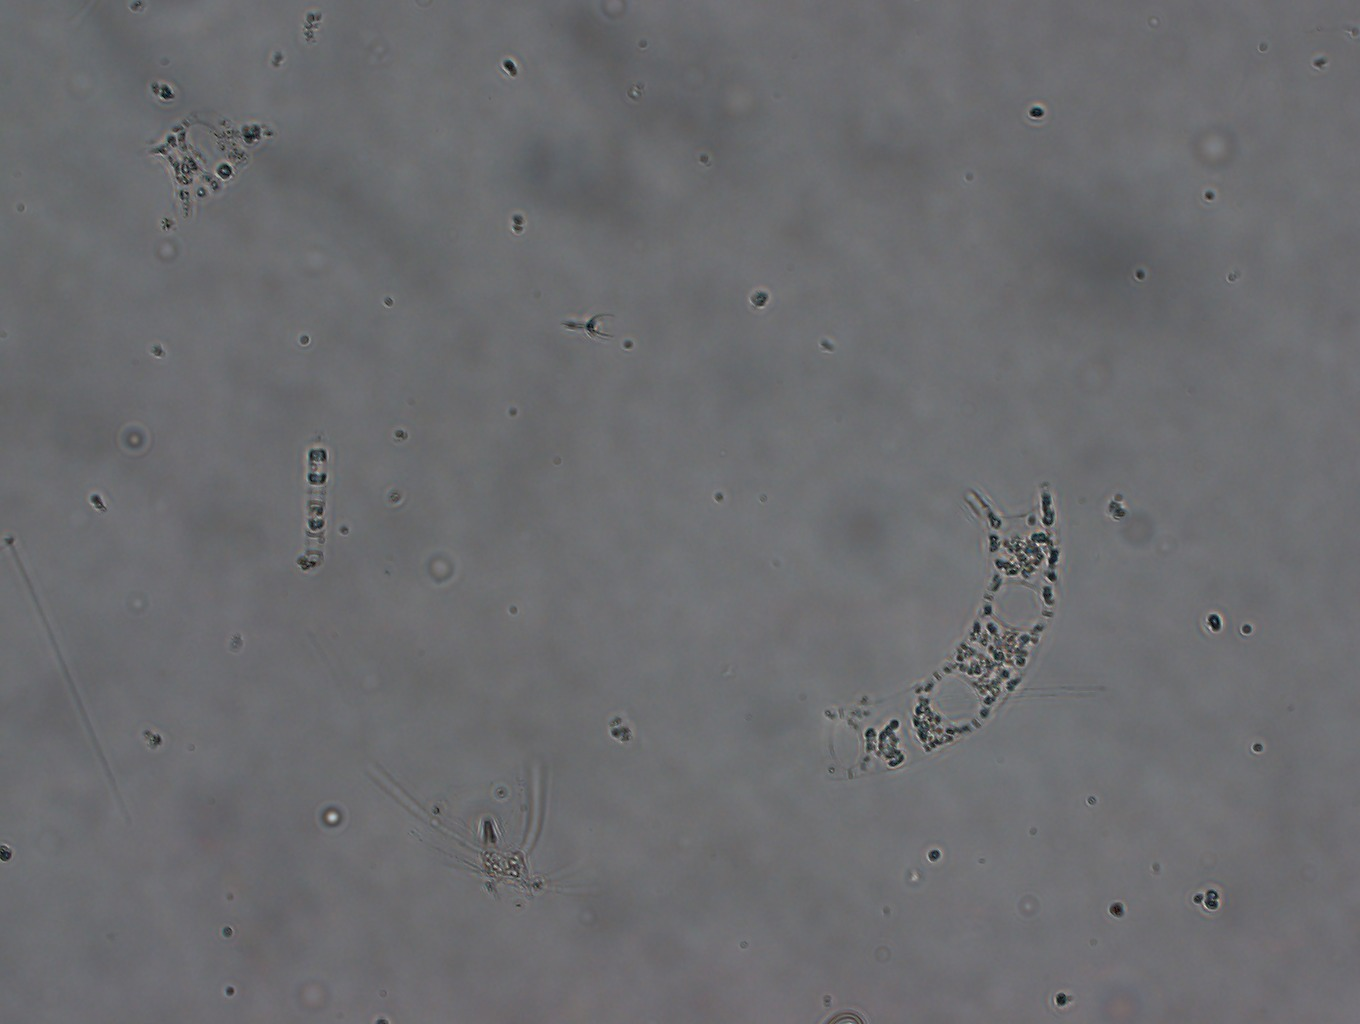eucampia: (805, 473, 1062, 790)
skeletonema: (286, 427, 343, 573)
